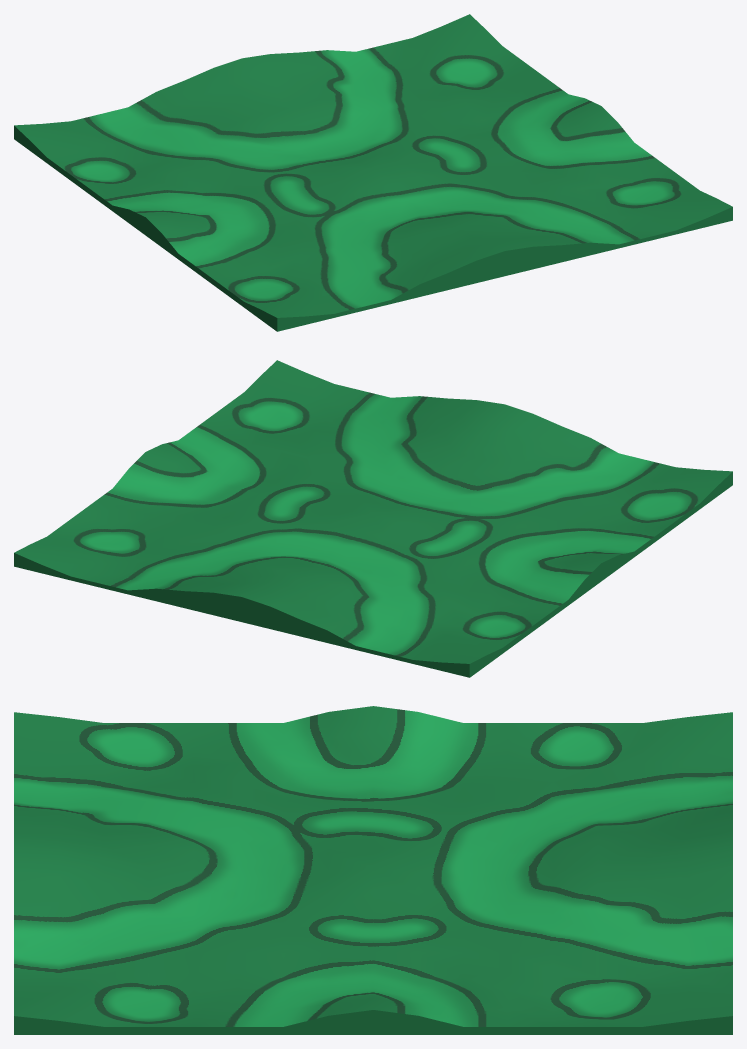
Rendered from grassy_field.FBX.
3 renders of one model, top to bottom at view 1: azimuth 30°, elevation 25°; view 2: azimuth 150°, elevation 25°; view 3: azimuth 270°, elevation 25°, orthographic. The views are drawn at different scales.
Parts seen in each view (by area): view 1: Box001; view 2: Box001; view 3: Box001.
Boxes of the visible parts, x1,y1,x2,y2 form: Box001: (14,14,732,331); Box001: (14,360,732,677); Box001: (14,706,732,1034).
Bounding box in the file's own units: 1000 × 1000 × 52.88.
